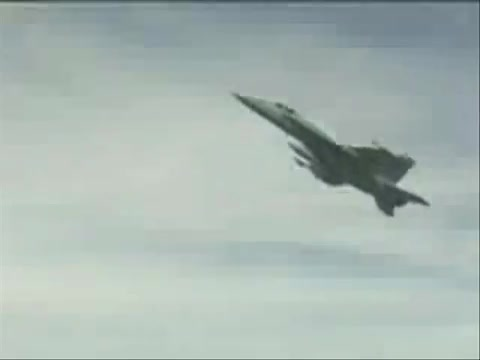aeroplane: (232, 92, 432, 219)
